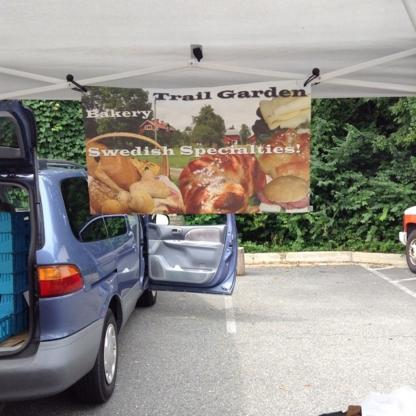Car: (1, 105, 235, 408), (400, 207, 416, 272)
